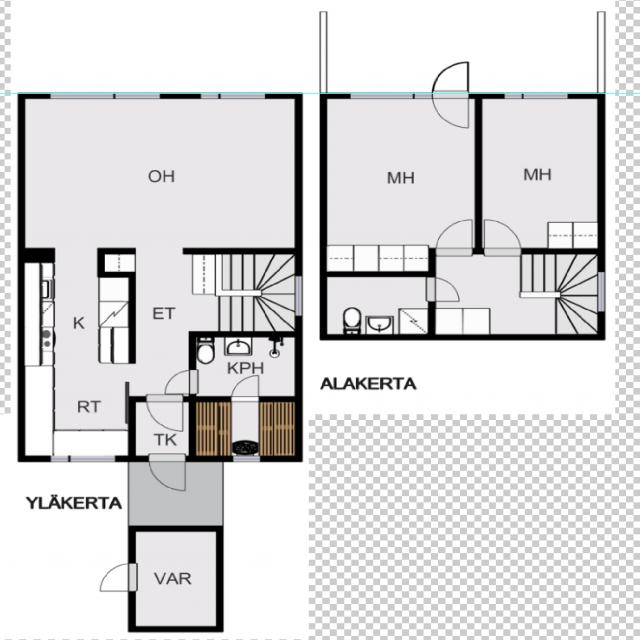door: (148, 455, 186, 494), (146, 396, 184, 434), (432, 60, 469, 99), (432, 93, 469, 132), (436, 217, 472, 256), (485, 218, 520, 256), (95, 563, 135, 592), (231, 372, 258, 402), (429, 277, 462, 301), (162, 370, 195, 394)
